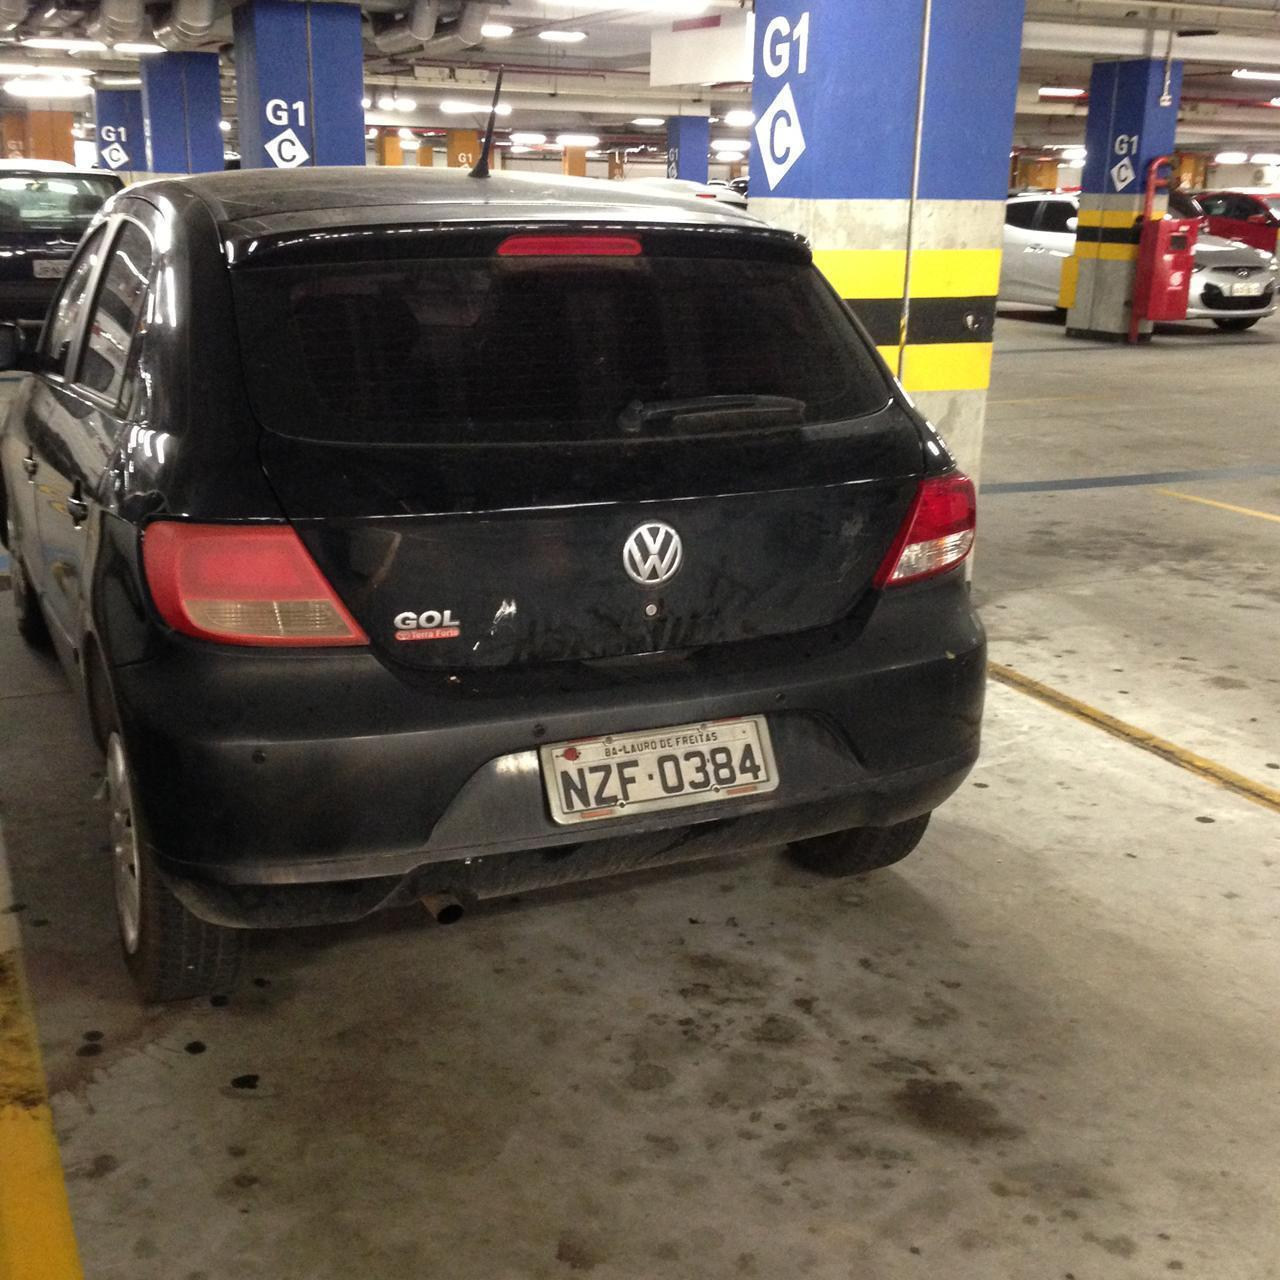placa de veiculo: (518, 706, 819, 838)
